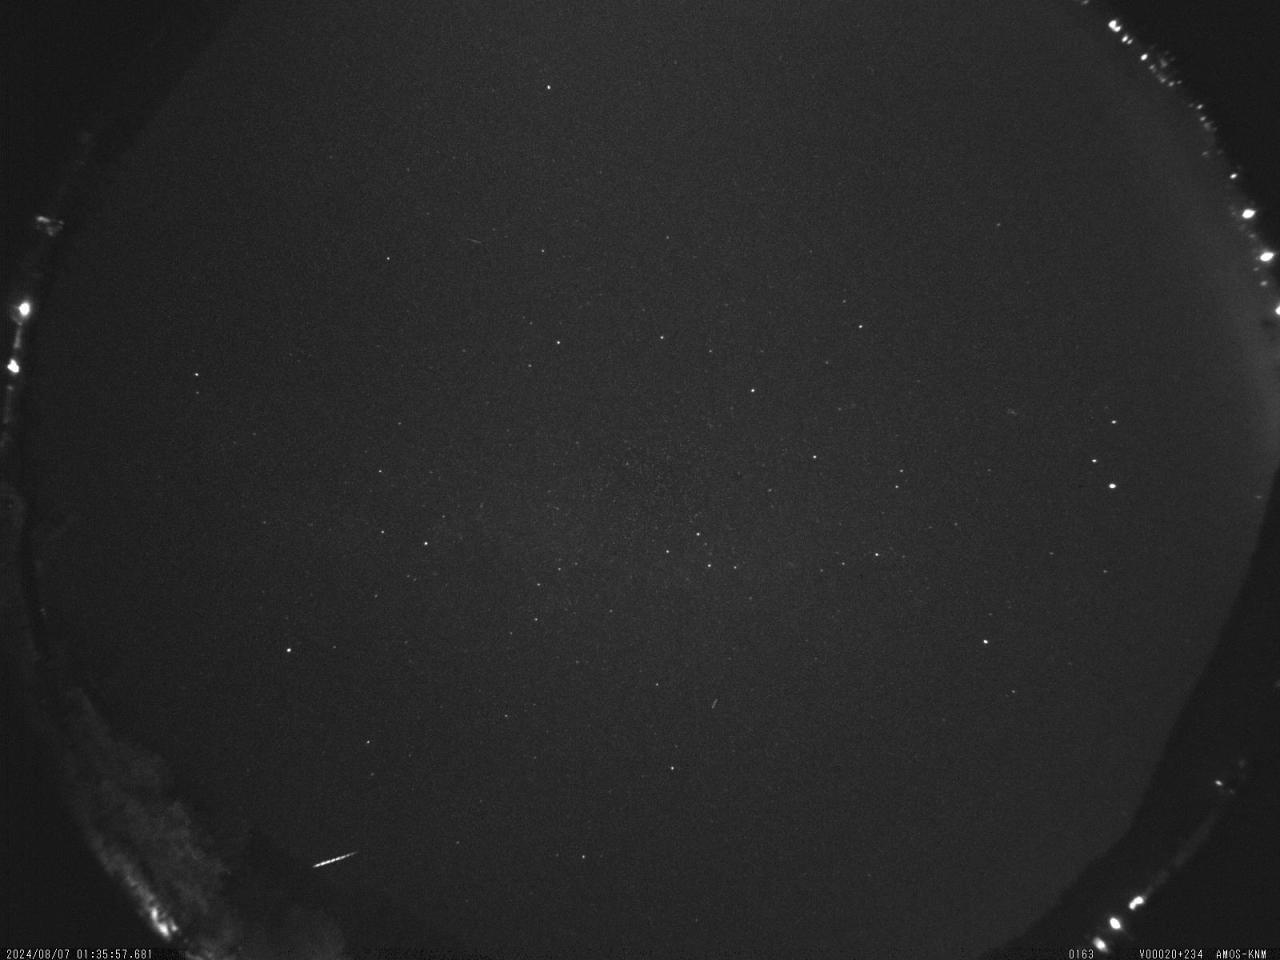Meteor: (309, 847, 357, 870)
